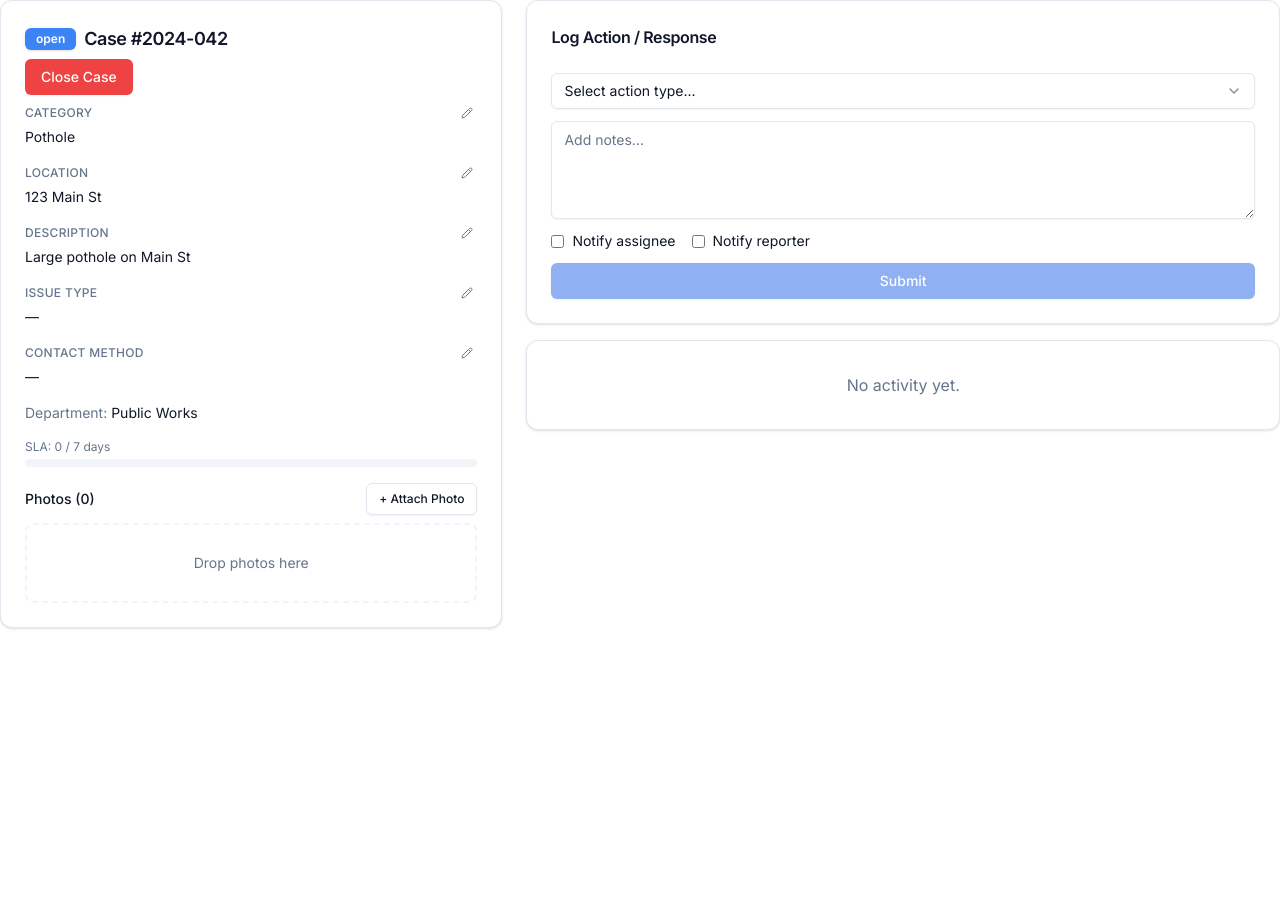
Scenario: inline edit: pencil click shows edit mode
Expected: the text "Case #2024-042" is shown, [84,25,228,53]
Note: Click the pencil icon for the Location field
Click the button named "Edit Location" at (467, 173), box [457,163,477,183]
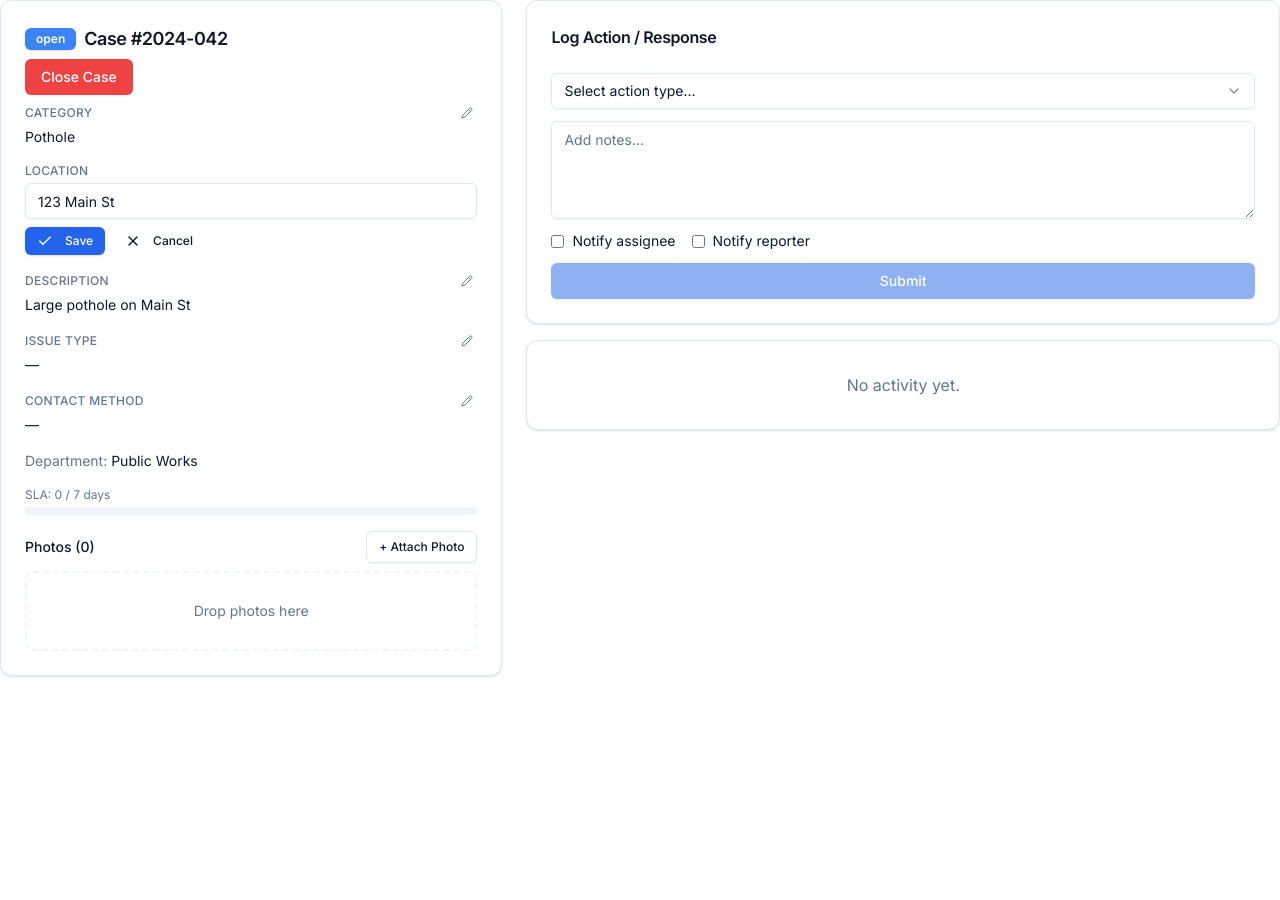
Result: the button "Save" is shown at [25,227,105,255]
Result: the button "Cancel" is shown at [113,227,205,255]
